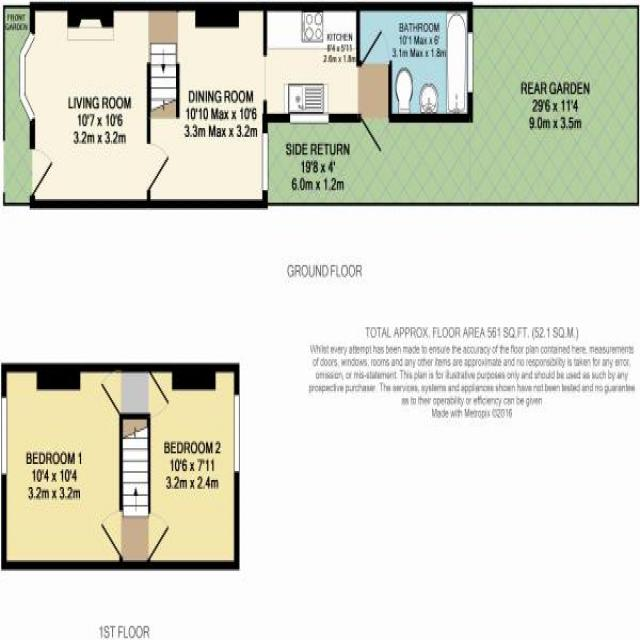DOOR: (359, 112, 395, 156), (360, 25, 394, 69), (28, 147, 56, 199), (98, 361, 123, 418), (97, 508, 124, 560), (147, 362, 171, 420), (145, 141, 171, 193), (147, 509, 171, 561)
ROOM: (19, 1, 395, 210), (1, 362, 123, 571), (147, 362, 240, 570)
WINDOW: (233, 392, 241, 475), (1, 396, 8, 476), (466, 31, 474, 95), (18, 30, 36, 58), (290, 112, 329, 124), (20, 94, 36, 123), (262, 132, 269, 192), (19, 52, 27, 104)
